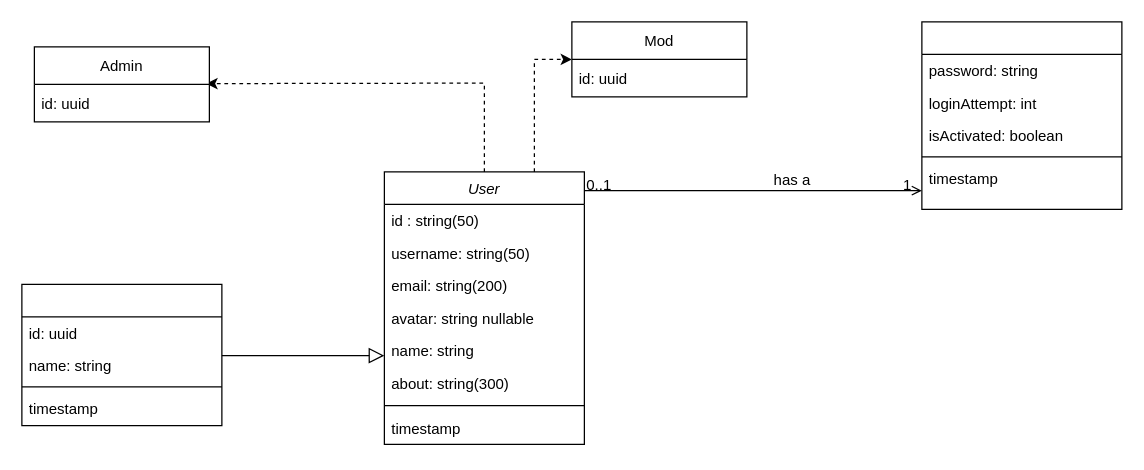
Some shapes in this 1144 by 470 pixel diagram are drawn without their labels. The shapes that lost their labels are listed below. From the top down, each one's box as (x1, y1, x2, y2) in pixels, then its label:
(921, 21, 1122, 209): Account
(21, 283, 222, 426): Role
